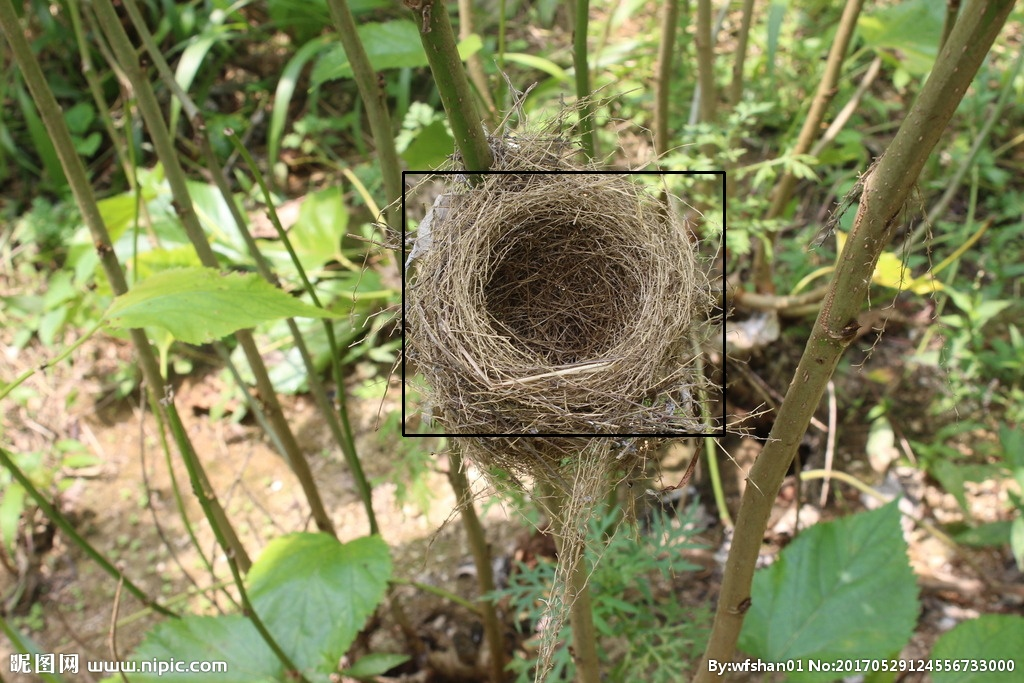bird-nest: (403, 133, 715, 466)
